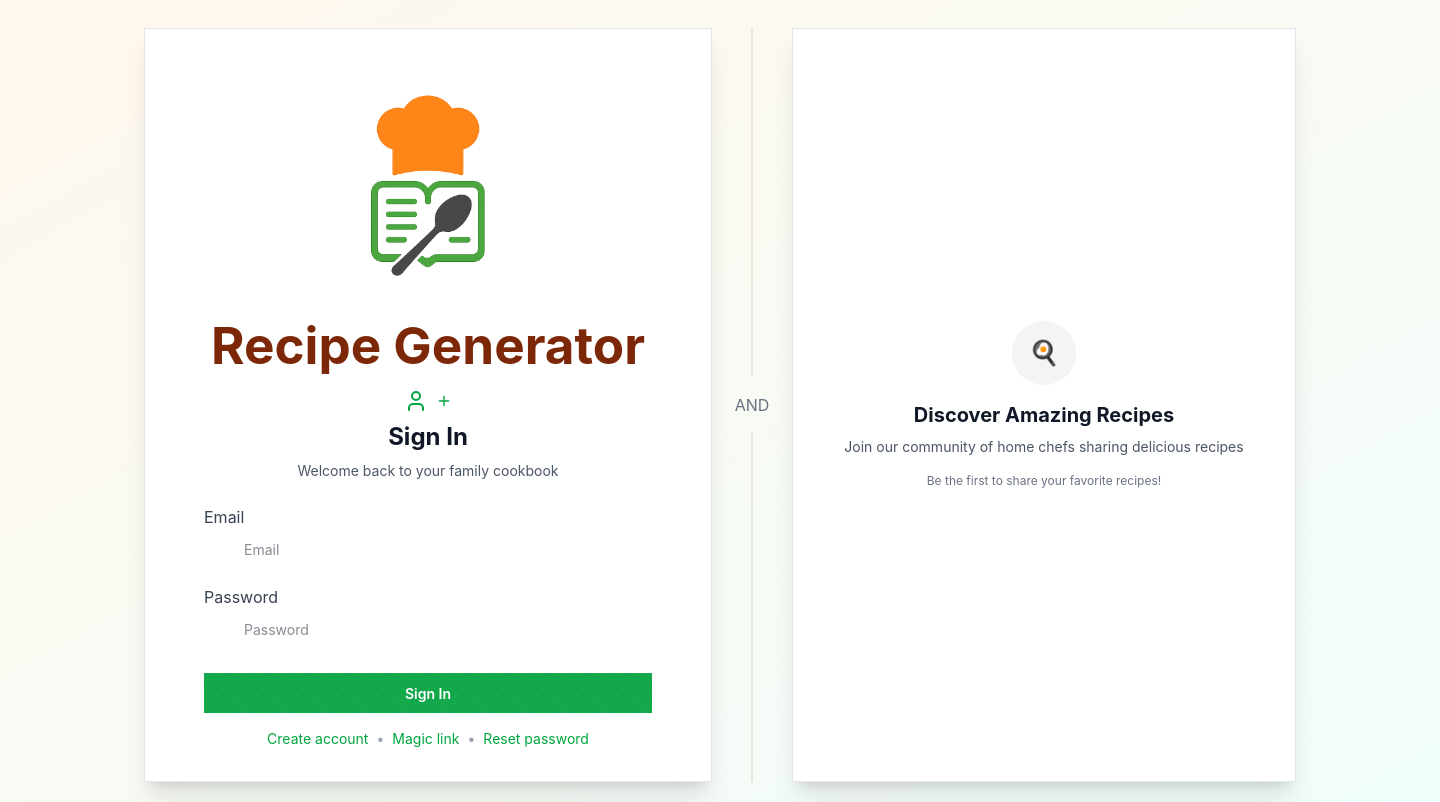
Test: Password Validation Integration Tests › AuthForm Password Validation › should show correct password requirement message
This screenshot has width=1440, height=802.
Click the button "Create account" at (318, 739), box left=267, top=729, right=368, bottom=749
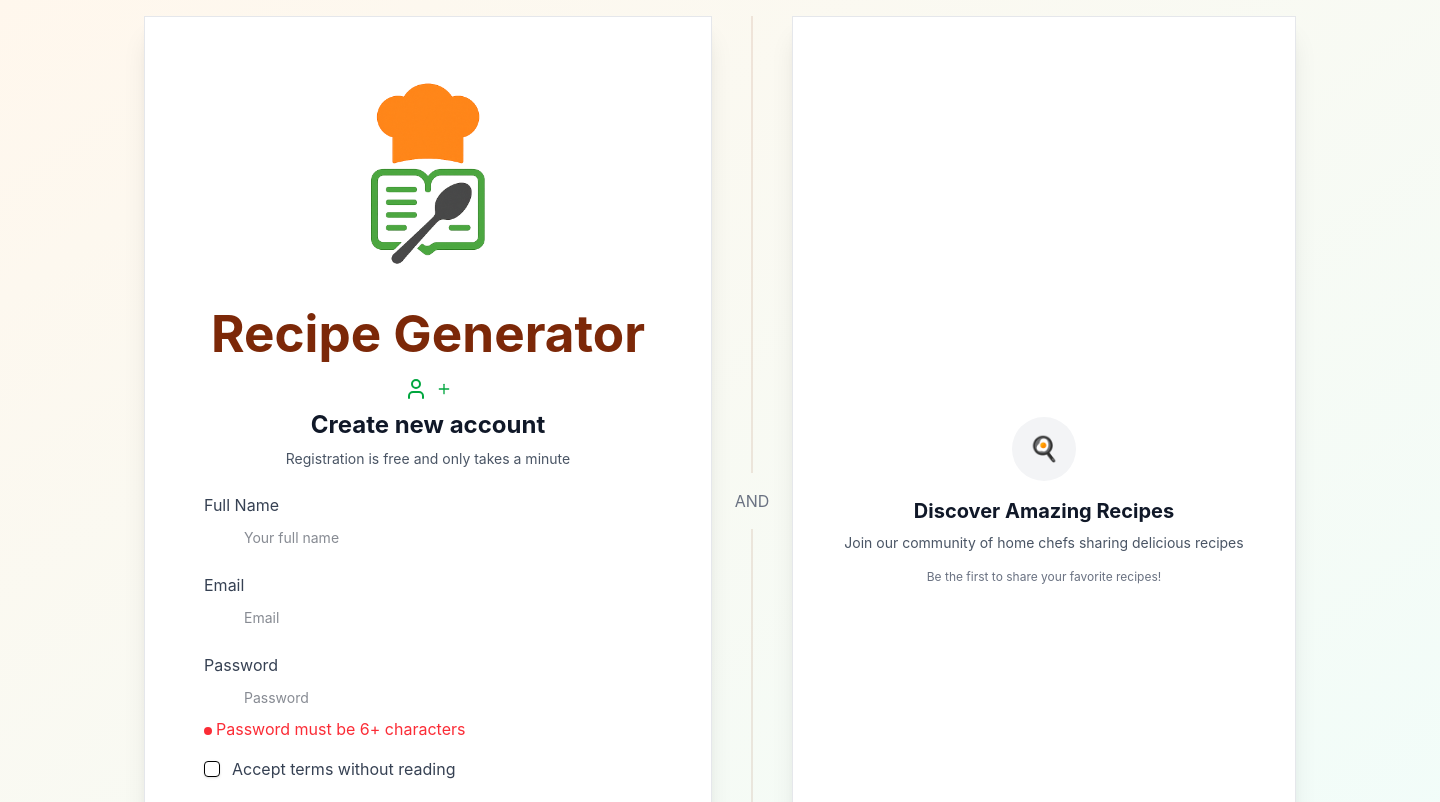
Check: the text "Password must be 6+ characters" is shown, box left=204, top=717, right=466, bottom=741
